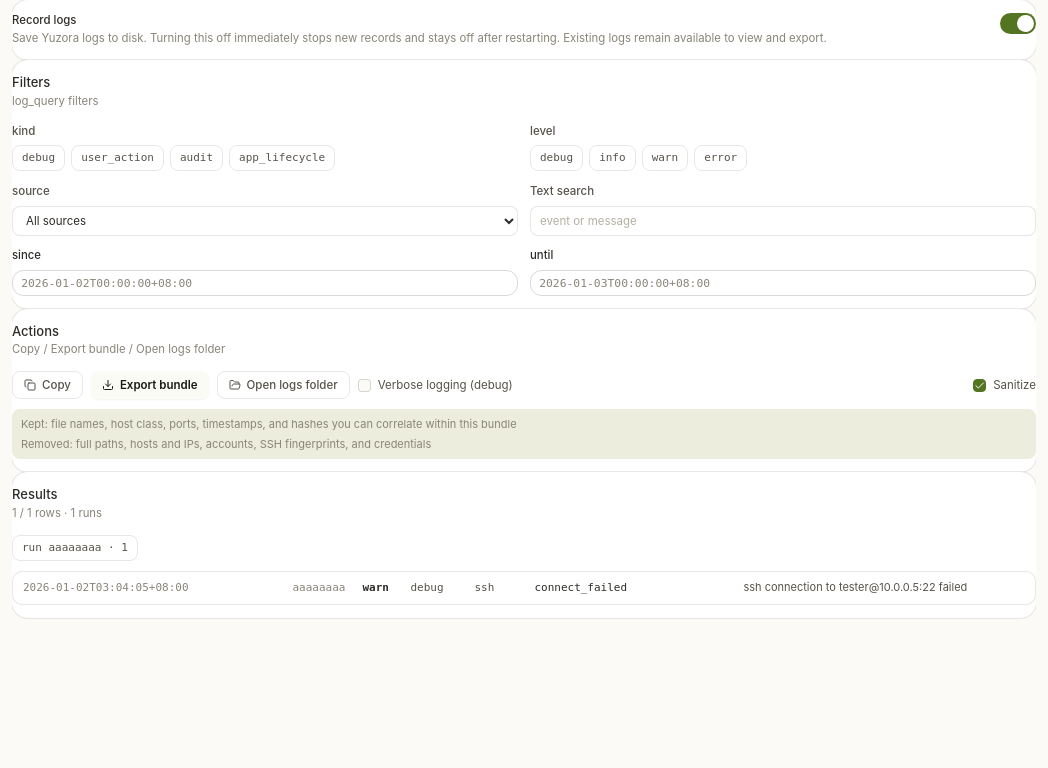
LogsSection sanitize › shows a raw-mode warning note only while sanitize is off
Expected: the button with test id "log-row-connect_failed" is shown, [13,572,1035,604]
Click the checkbox named "Sanitize" next to "Sanitize" at point(980, 385), box [973,379,986,392]
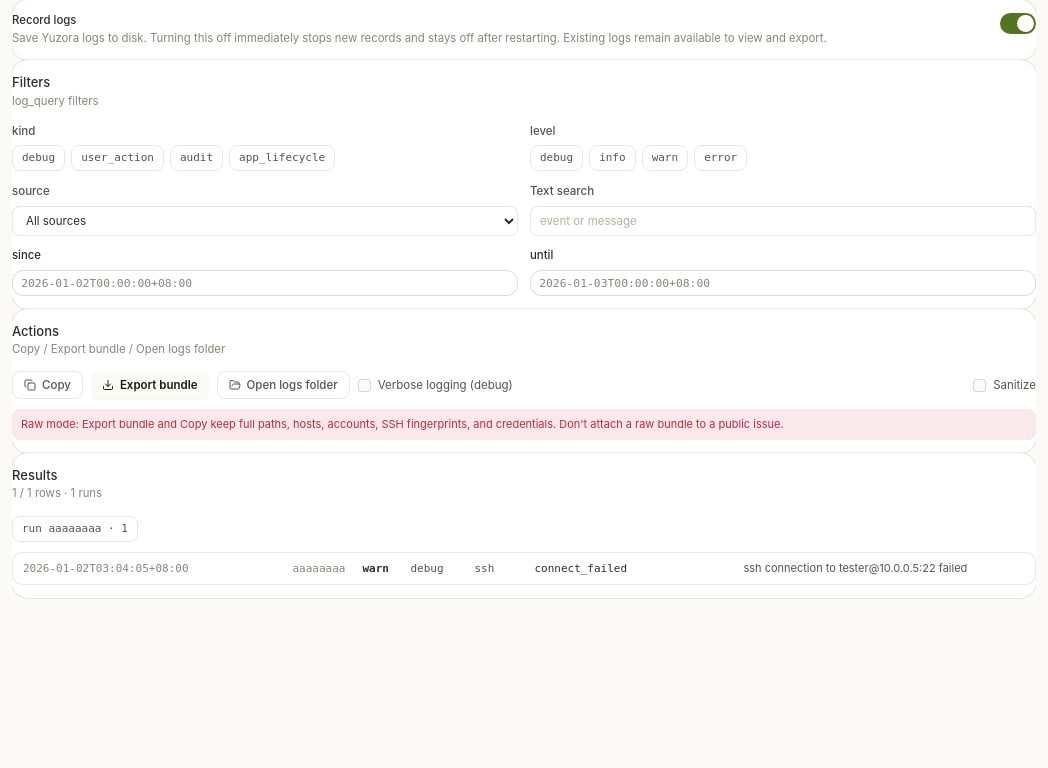
Expected: the text with test id "logs-raw-mode-warning" shows "SSH fingerprints", [21,417,784,431]
Now the text with test id "logs-raw-mode-warning" shows "Raw mode", box [21,417,784,431]
